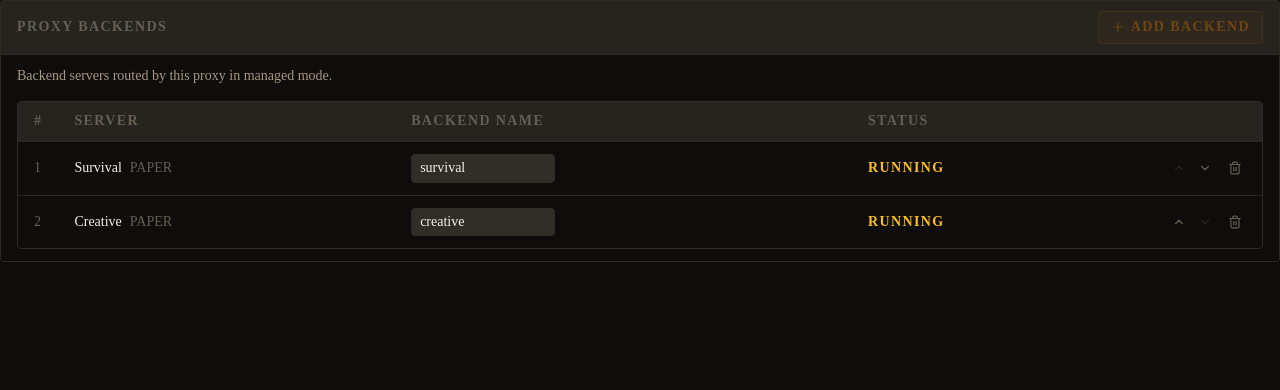
ProxyBackendsSection › shows error when save fails with duplicate names
Replace the text in the field showing "survival" in the row of "Survival" with "creative" at (483, 168), box [411,154,555,183]
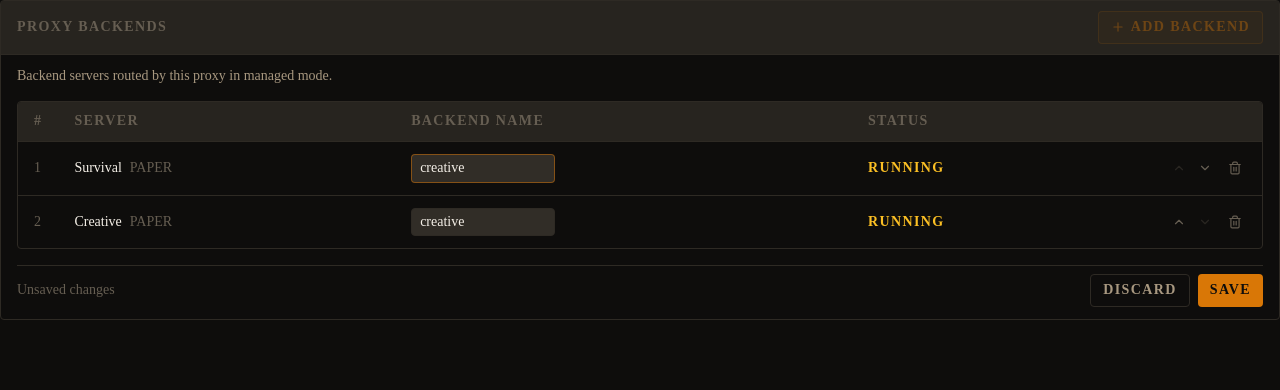
Click the button "Save" at (1230, 291), box [1198,274,1263,307]
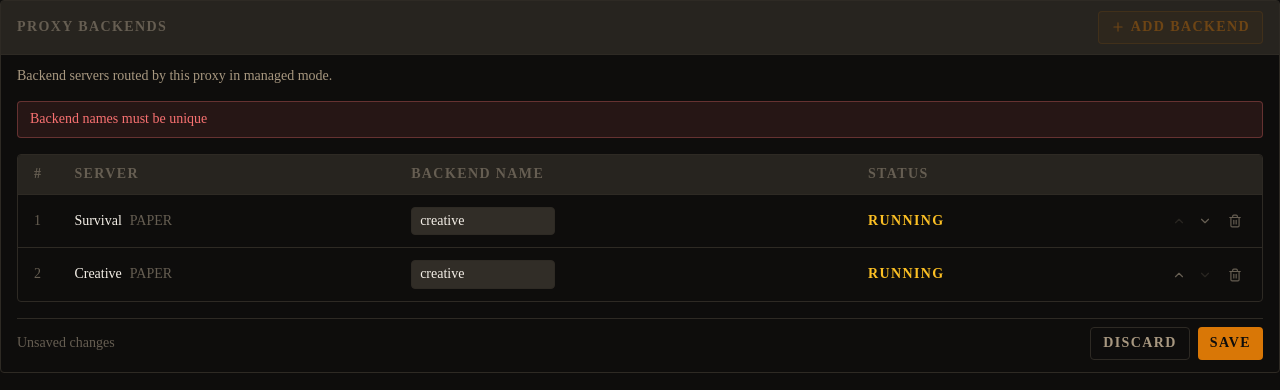
Result: the text "Backend names must be unique" is shown at [17,101,1263,138]
